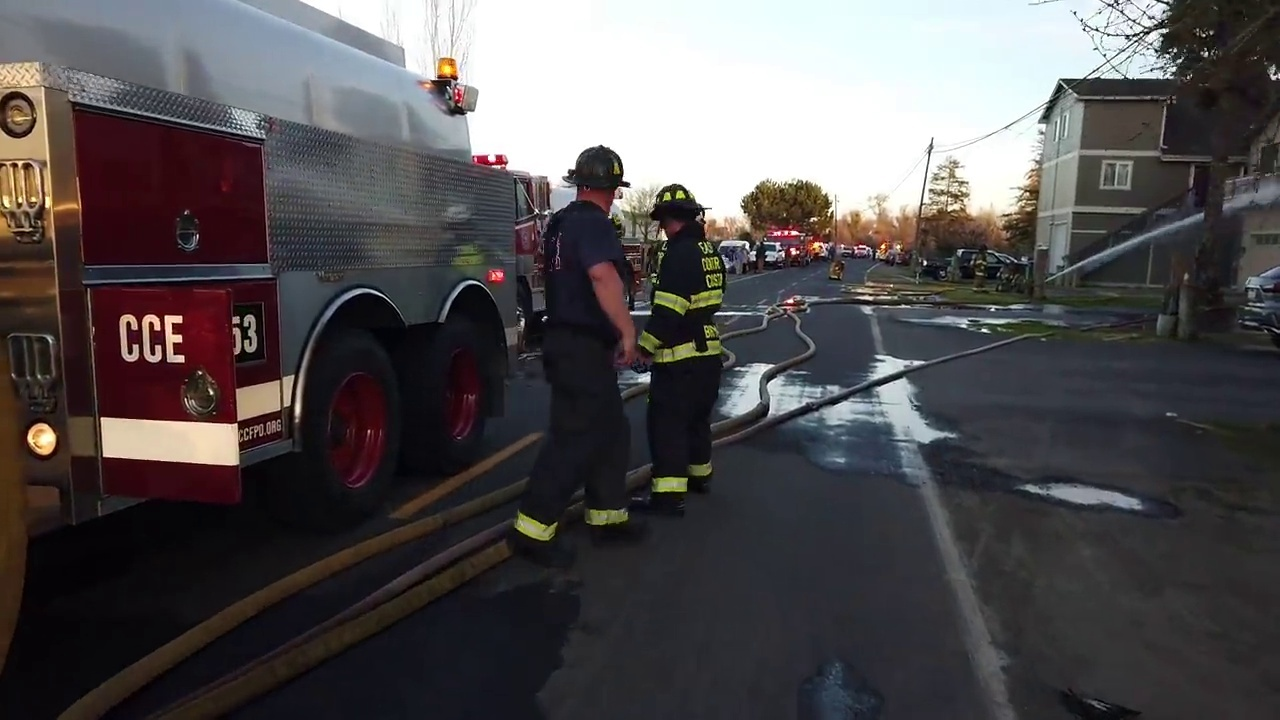fire: (436, 56, 457, 78)
